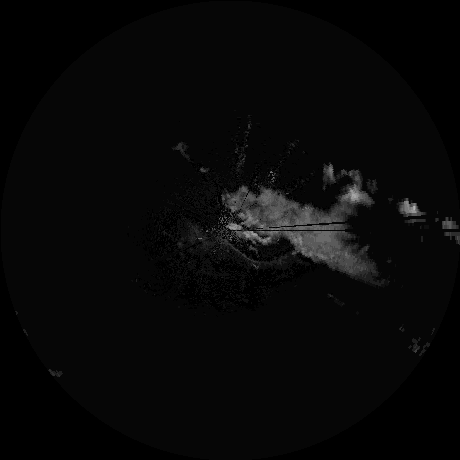frontgust: (222, 239, 267, 266)
